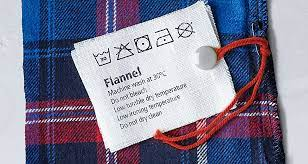ER_iron_low_temp: (153, 27, 175, 48)
ER_no_bleach: (114, 41, 135, 62)
ER_no_dry_clean: (175, 20, 198, 40)
ER_tumble_dry_low_heat: (133, 33, 153, 55)
ER_wash_70: (91, 47, 113, 67)
